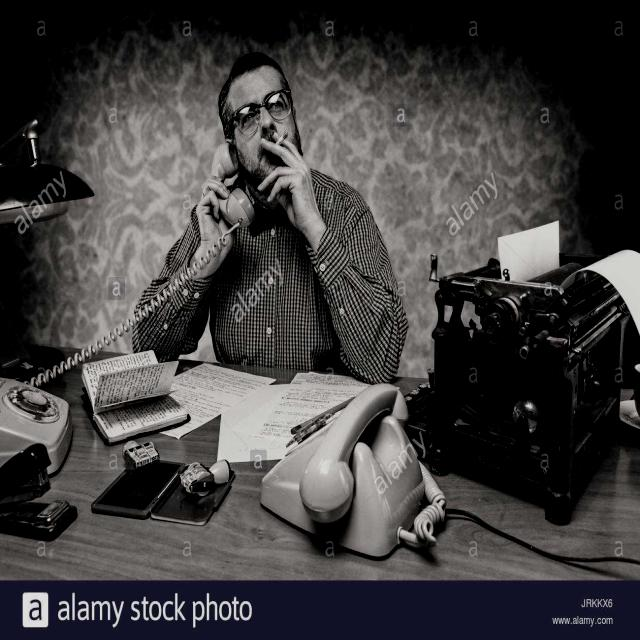Smooking: (272, 128, 291, 152)
